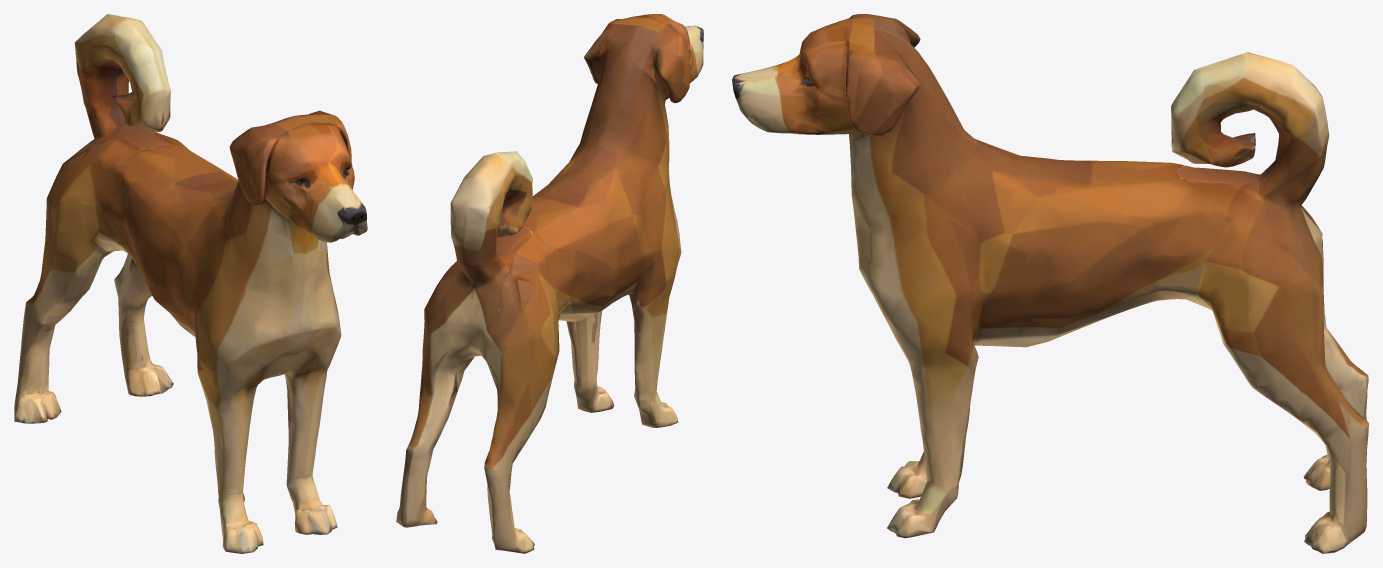
The model's file is cachorroEpiderme.glb.
3 renders of one model, left to right at view 1: azimuth 30°, elevation 25°; view 2: azimuth 150°, elevation 25°; view 3: azimuth 270°, elevation 25°, orthographic. The views are drawn at different scales.
Size of the model in its own units: 0.6416 by 1.7 by 2.
1 material, 1 textured.
